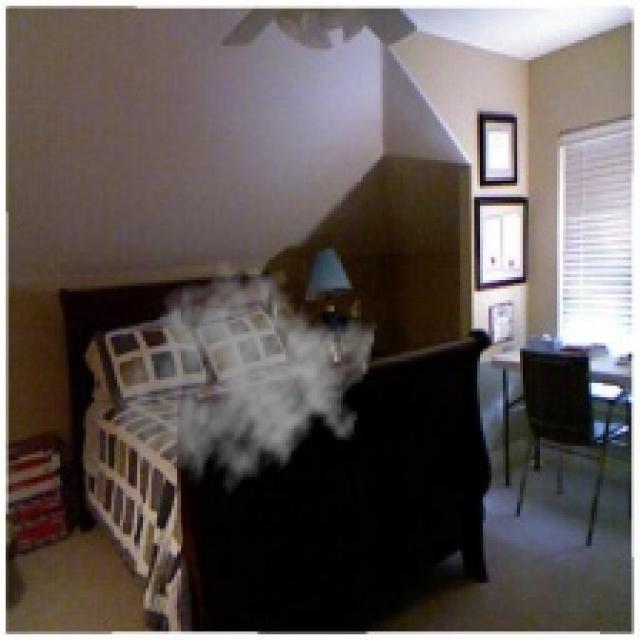smoke: (112, 257, 377, 506)
